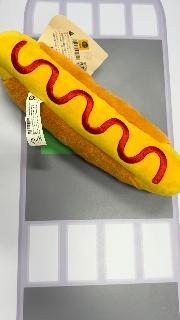hotdog: (1, 30, 179, 196)
